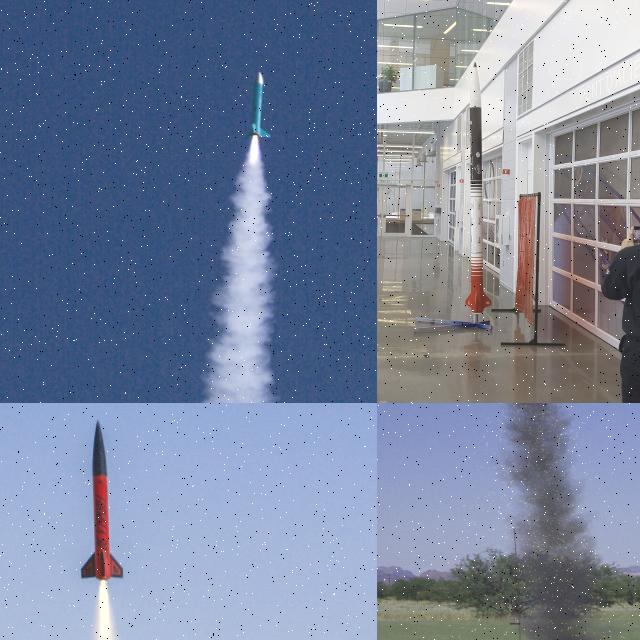Rocket: (78, 418, 125, 583), (465, 62, 492, 314), (242, 71, 271, 139)
